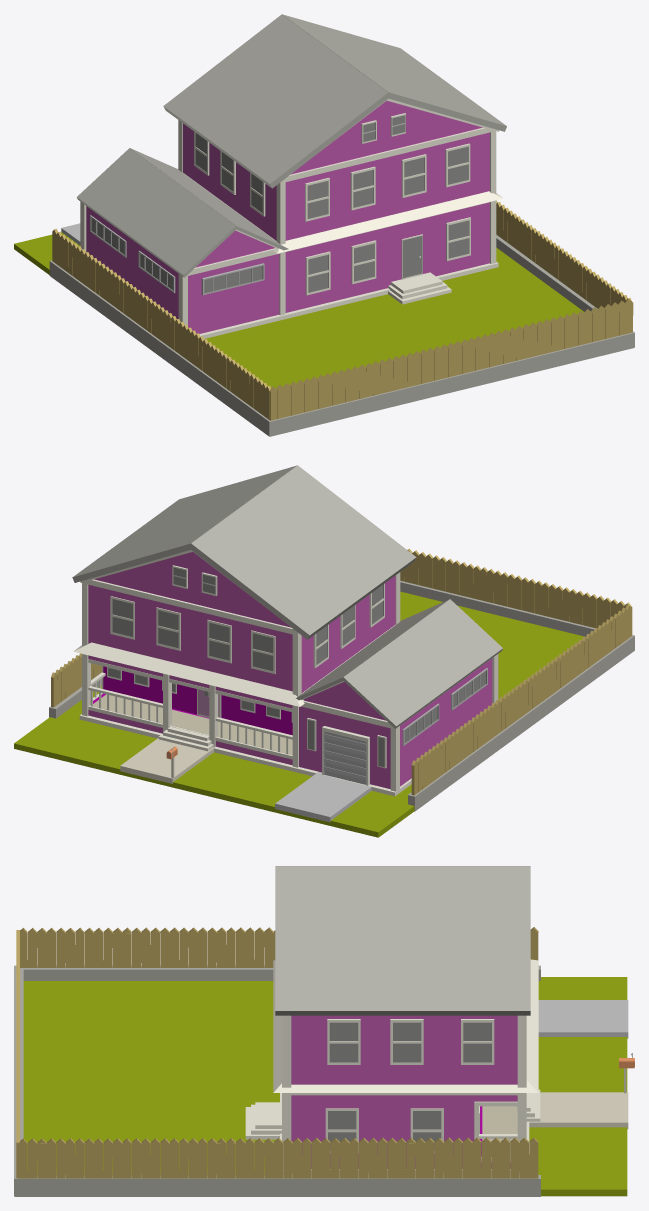
Rendered from house10.fbx.
The picture shows the model from 3 angles, top to bottom: view 1: azimuth 30°, elevation 25°; view 2: azimuth 150°, elevation 25°; view 3: azimuth 270°, elevation 25°; orthographic projection. The views are drawn at different scales.
Visible parts, largest first — view 1: Cube_27; view 2: Cube_27; view 3: Cube_27.
Boxes of the visible parts, box(x1,y1,x2,y2) form: Cube_27: box(14, 14, 634, 436); Cube_27: box(14, 465, 634, 837); Cube_27: box(14, 866, 634, 1196).
Size of the model in its own units: 2228 by 1219 by 2738.
